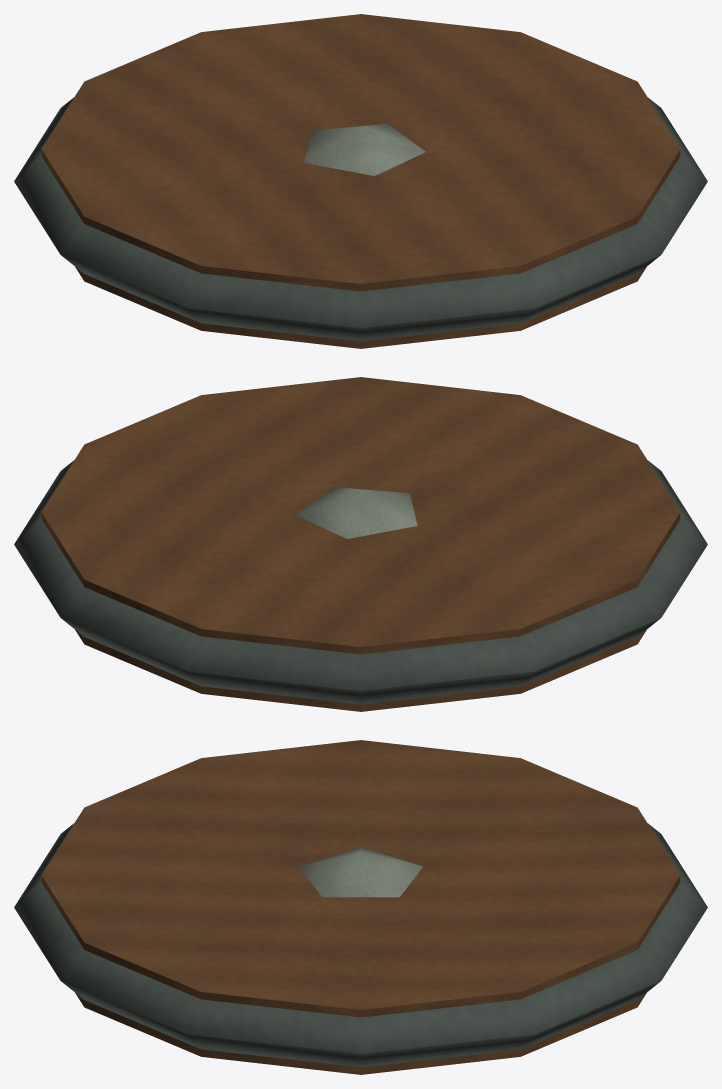
The model's file is equipment-shield.fbx.
3 renders of one model, top to bottom at view 1: azimuth 30°, elevation 25°; view 2: azimuth 150°, elevation 25°; view 3: azimuth 270°, elevation 25°, orthographic.
Parts seen in each view (by area): view 1: equipment-shield__Geometry; view 2: equipment-shield__Geometry; view 3: equipment-shield__Geometry.
Part boxes in pixels (x1=…): equipment-shield__Geometry: x1=14, y1=14, x2=707, y2=348; equipment-shield__Geometry: x1=14, y1=377, x2=707, y2=711; equipment-shield__Geometry: x1=14, y1=740, x2=707, y2=1074.
Bounding box in the file's own units: 0.63 × 0.11 × 0.63.
